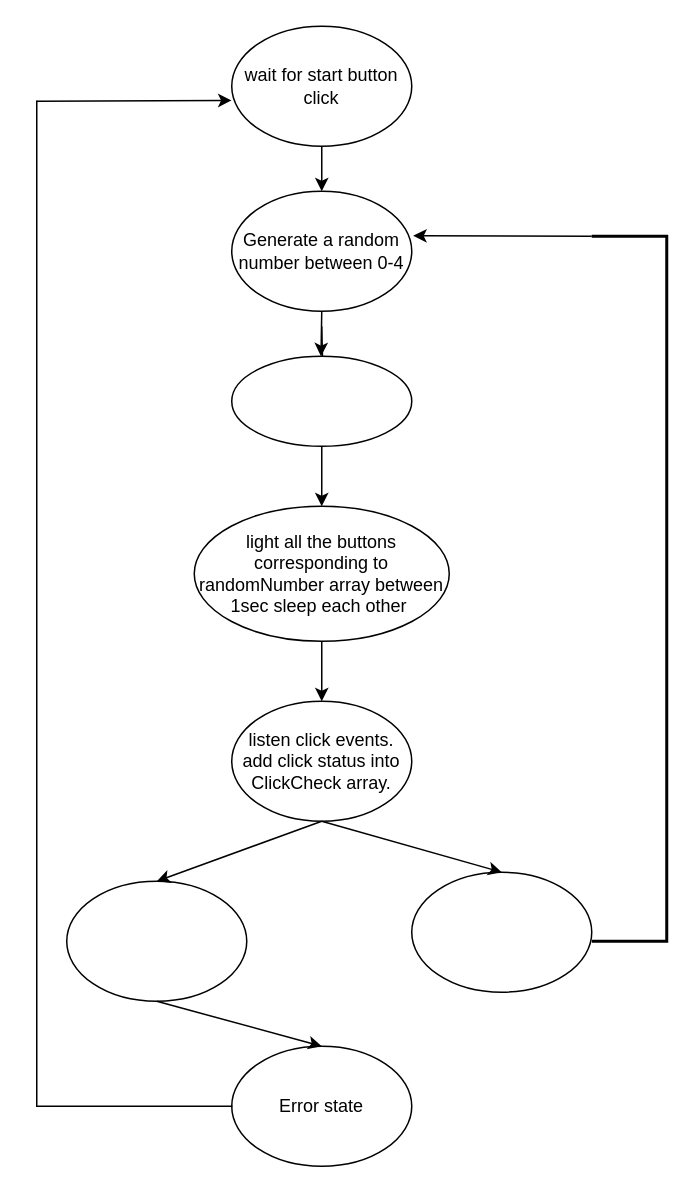
Some shapes in this 695 by 1193 pixel diagram are drawn without their labels. Each missing label, with the box of its shape:
add number to randomNumber array: (230, 355, 412, 446)
if all numbers of CheckArray is 1: (410, 871, 592, 992)
if CheckArray has a element which has value 0: (65, 880, 247, 1001)
